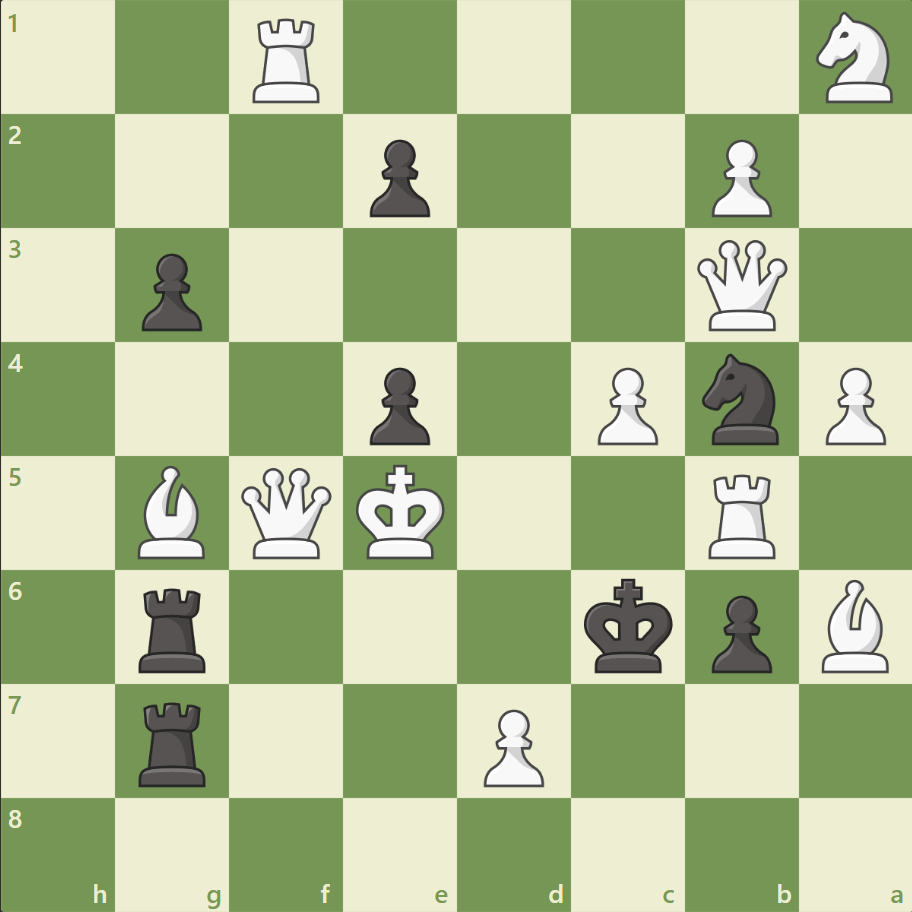B: (131, 460, 215, 563), (812, 574, 896, 676)
K: (351, 458, 451, 566)
N: (806, 7, 903, 110)
P: (474, 700, 549, 791), (701, 132, 776, 223), (815, 359, 889, 450), (588, 359, 662, 450)
Q: (237, 463, 336, 562), (691, 236, 790, 335)
R: (700, 466, 783, 563), (246, 12, 329, 109)
k: (579, 571, 679, 679)
n: (692, 348, 789, 450)
p: (701, 586, 776, 677), (133, 246, 208, 337), (361, 359, 435, 450), (361, 132, 435, 223)
r: (133, 693, 215, 790), (133, 579, 215, 676)
